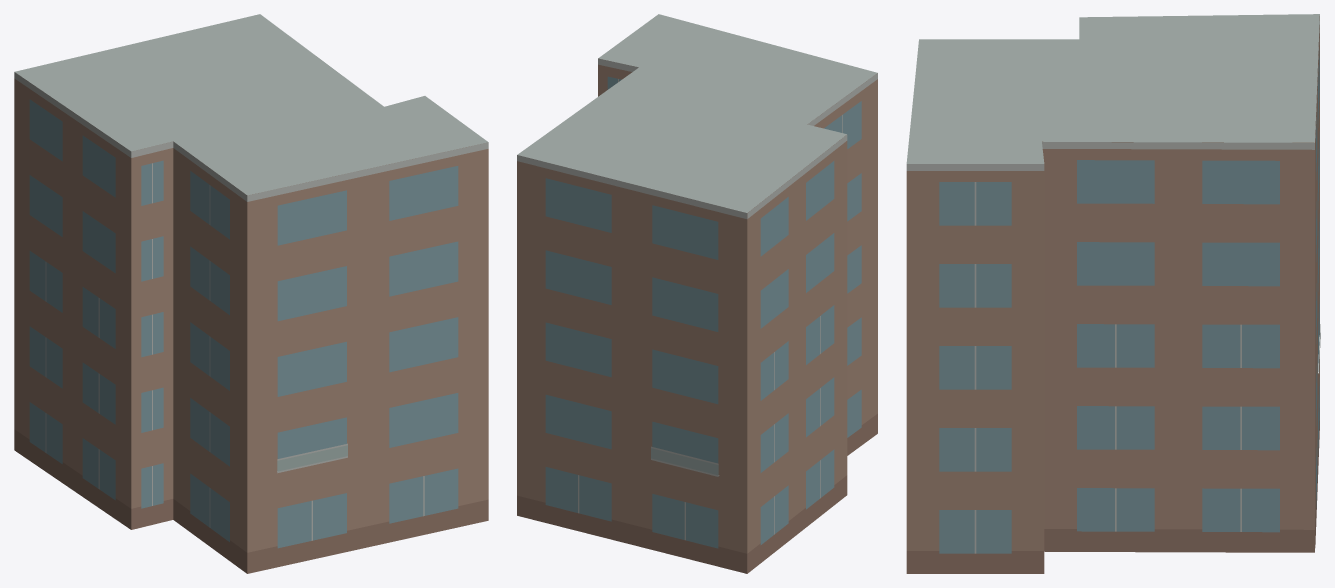
File: survey-upis-32958114.glb
3 renders of one model, left to right at view 1: azimuth 30°, elevation 25°; view 2: azimuth 150°, elevation 25°; view 3: azimuth 270°, elevation 25°, orthographic. The views are drawn at different scales.
Visible parts, largest first — view 1: survey-upis-32958114.tmp; view 2: survey-upis-32958114.tmp; view 3: survey-upis-32958114.tmp.
Part boxes in pixels (x1=…): survey-upis-32958114.tmp: x1=14, y1=14, x2=488, y2=573; survey-upis-32958114.tmp: x1=517, y1=14, x2=877, y2=573; survey-upis-32958114.tmp: x1=906, y1=14, x2=1320, y2=573.
Bounding box in the file's own units: 11.15 × 14.2 × 13.
